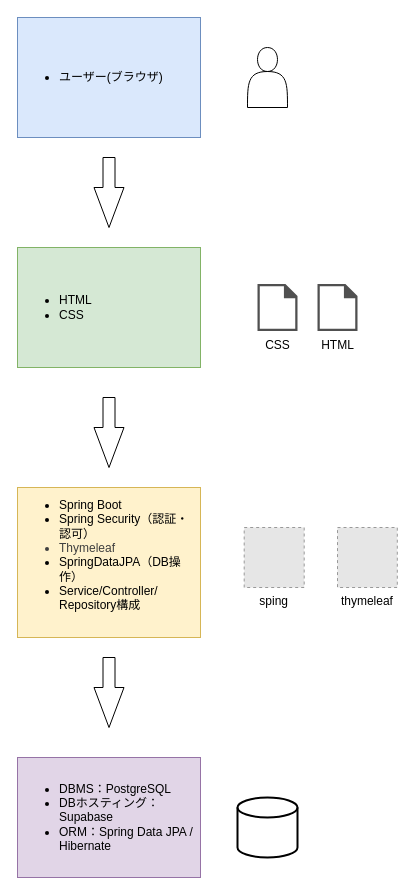
This 415x895 diagram has some shape labels left out. Grey dashed boxes stand in for pictures. Here are the shapes that lost their labels. From the top down, the centre of each, then its label:
At point 267,77: "USER".
At point 267,827: "DB".
